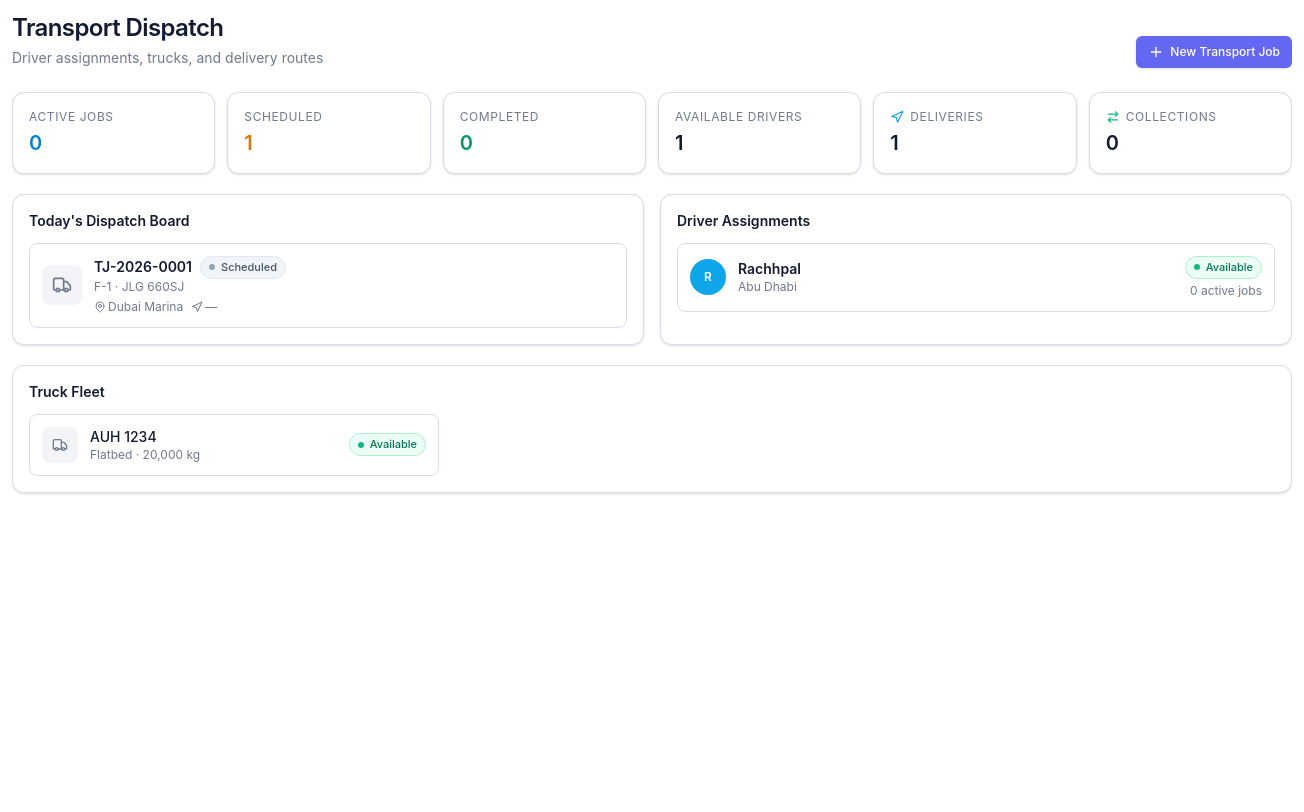
Scenario: TransportPage › opens the detail panel with the 15 REF-13 rows
This screenshot has width=1304, height=812.
Click the text "TJ-2026-0001" at (143, 267), box [94,257,192,277]
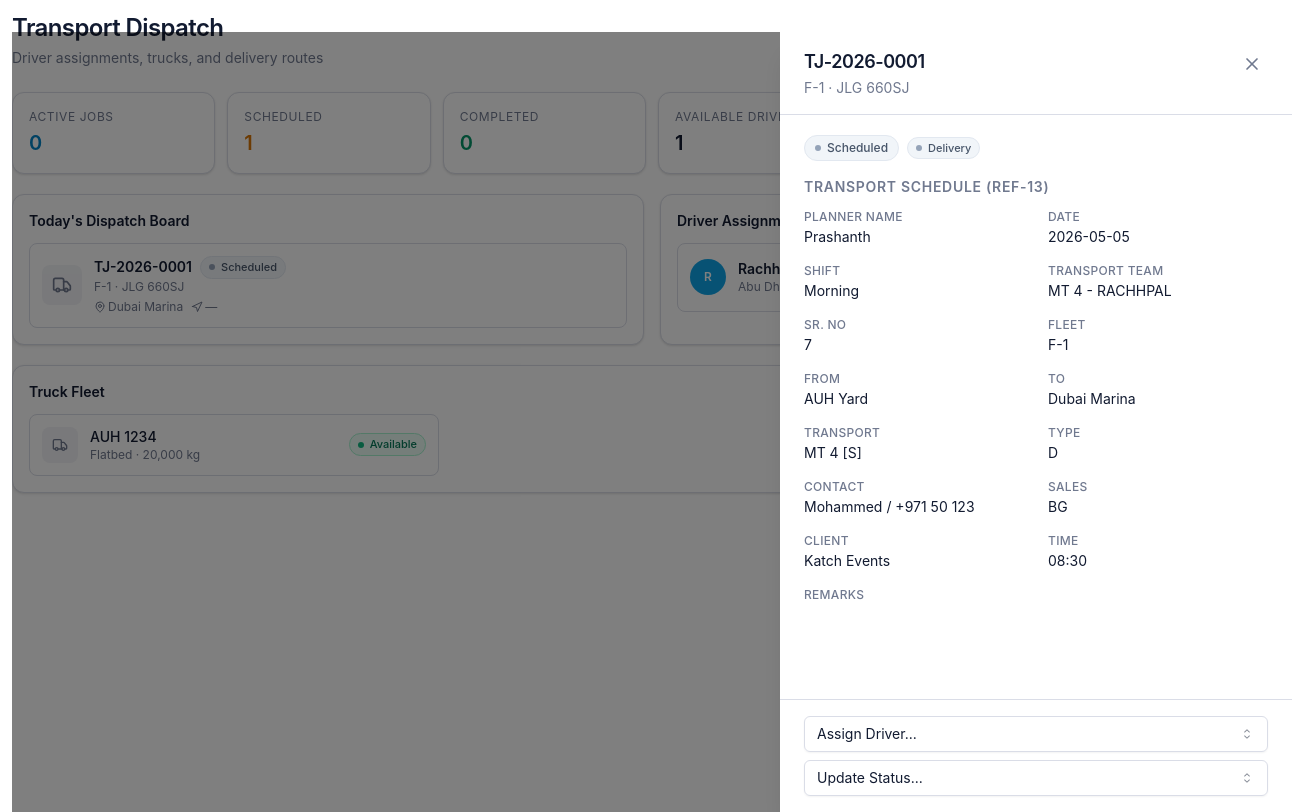
Expected: the text "Planner Name" is shown, [804,209,903,224]
Expected: the text "Date" is shown, [1048,209,1080,224]
Expected: the text "Shift" is shown, [804,263,840,278]
